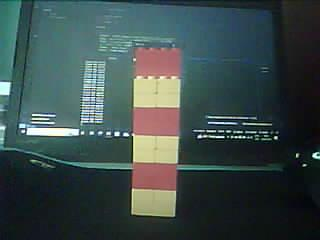lego: (131, 47, 182, 217)
